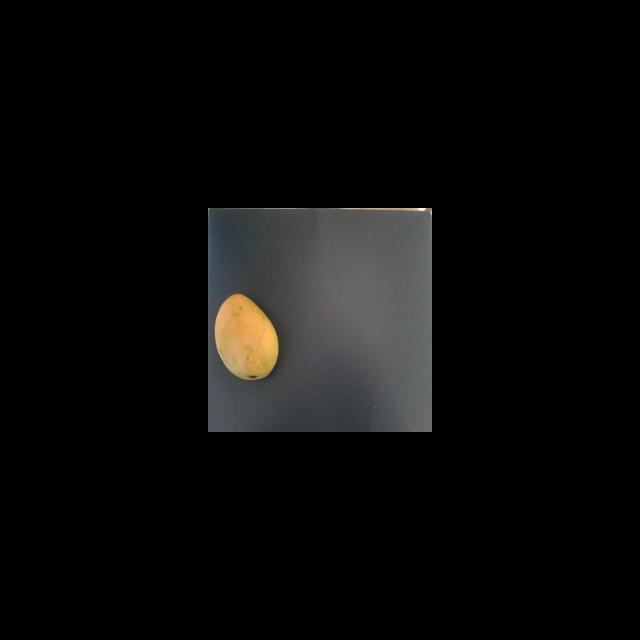Mango: (213, 292, 279, 381)
